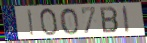7: (80, 6, 97, 36)
B: (99, 6, 121, 34)
I: (122, 4, 132, 35), (27, 9, 35, 37)
O: (59, 7, 81, 36), (39, 7, 59, 37)
